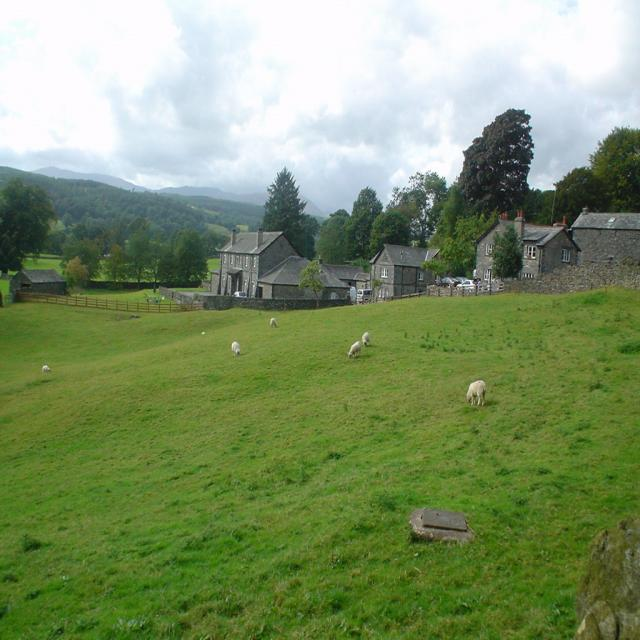Sheep: (467, 383, 486, 410), (348, 340, 362, 360), (232, 340, 240, 355), (362, 332, 371, 345), (270, 320, 278, 328), (44, 364, 50, 372)
